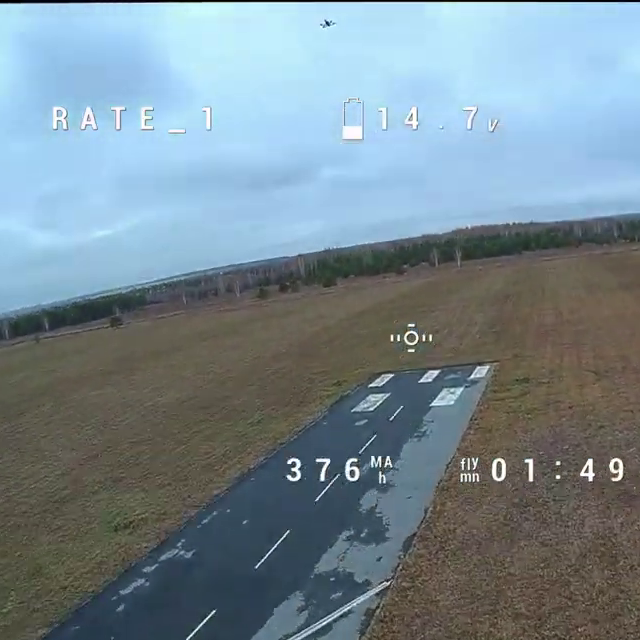drone: (319, 17, 336, 31)
